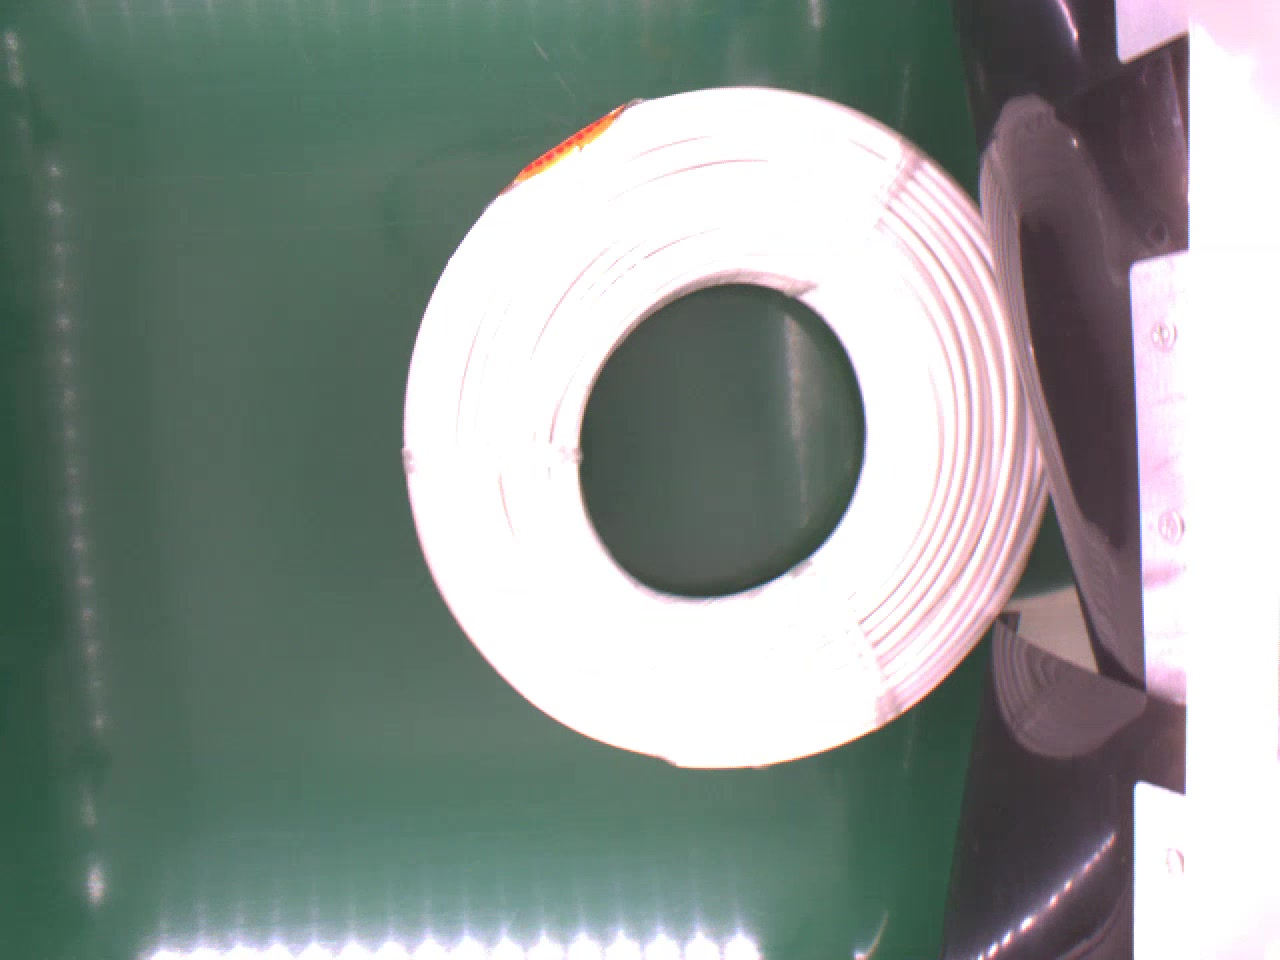white: (406, 69, 1048, 769)
